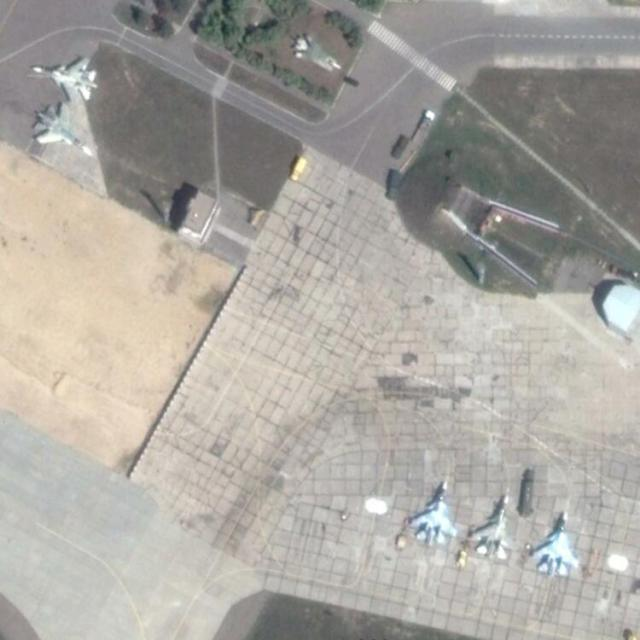fighter jet: (466, 484, 518, 560), (401, 474, 457, 544), (21, 103, 89, 154), (532, 506, 578, 577), (27, 54, 98, 99)
